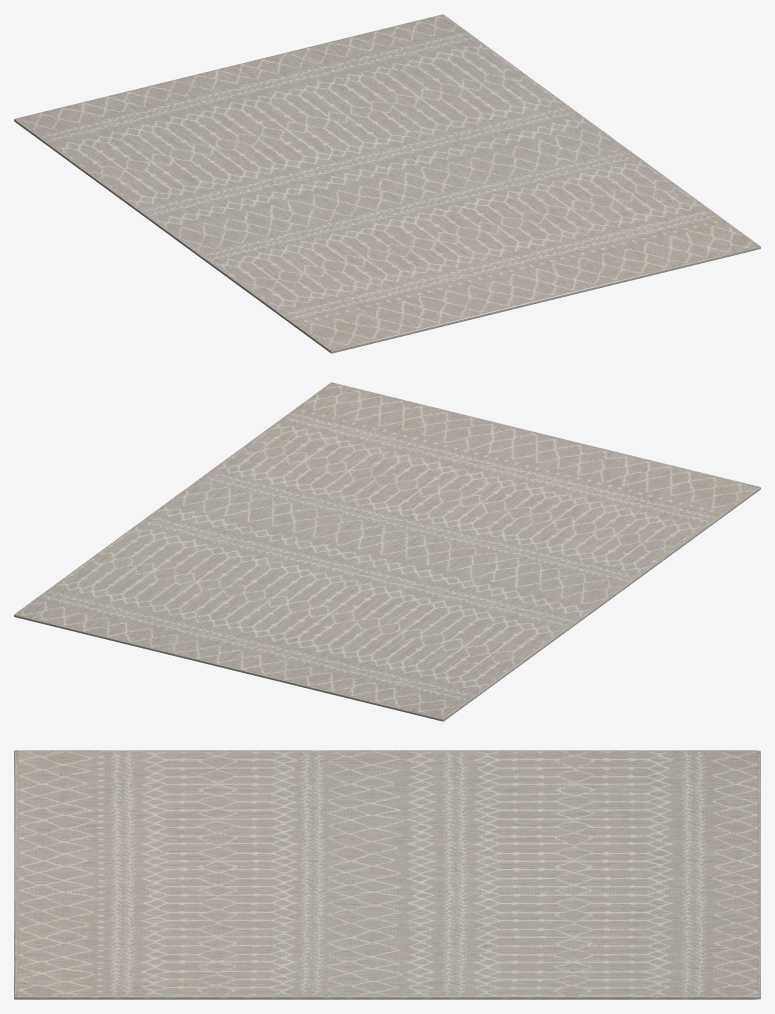
File: rug.glb
The picture shows the model from 3 angles, top to bottom: view 1: azimuth 30°, elevation 25°; view 2: azimuth 150°, elevation 25°; view 3: azimuth 270°, elevation 25°; orthographic projection. The views are drawn at different scales.
Parts seen in each view (by area): view 1: Box002_Material #2_0; view 2: Box002_Material #2_0; view 3: Box002_Material #2_0.
Boxes of the visible parts, x1,y1,x2,y2 form: Box002_Material #2_0: (14, 14, 760, 353); Box002_Material #2_0: (14, 382, 760, 721); Box002_Material #2_0: (14, 750, 760, 999).
Size of the model in its own units: 0.9358 by 0.00541 by 1.2.
Materials: 1 (1 with a texture image).
